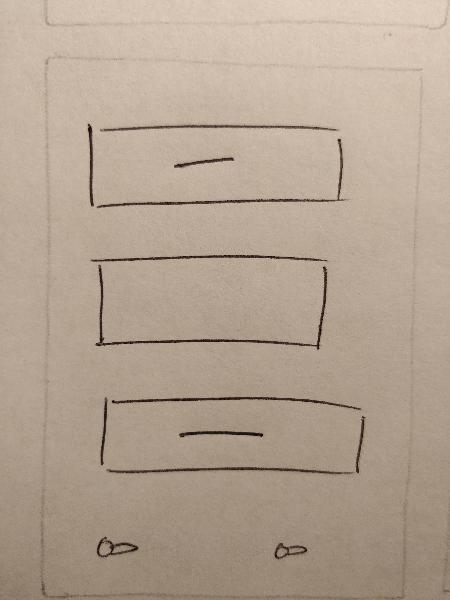button: (85, 386, 379, 487), (76, 111, 353, 216)
switch: (256, 531, 318, 570), (89, 523, 149, 560)
text_input: (80, 249, 340, 355)
